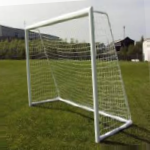goals: (23, 6, 133, 144)
